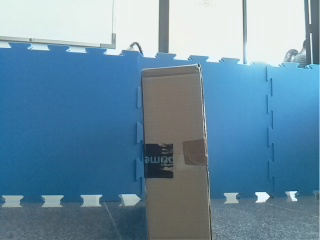caja: (139, 65, 217, 240)
